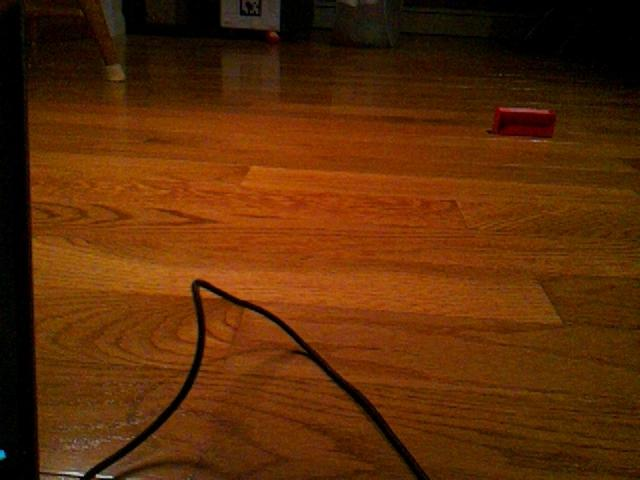red: (491, 105, 558, 139)
